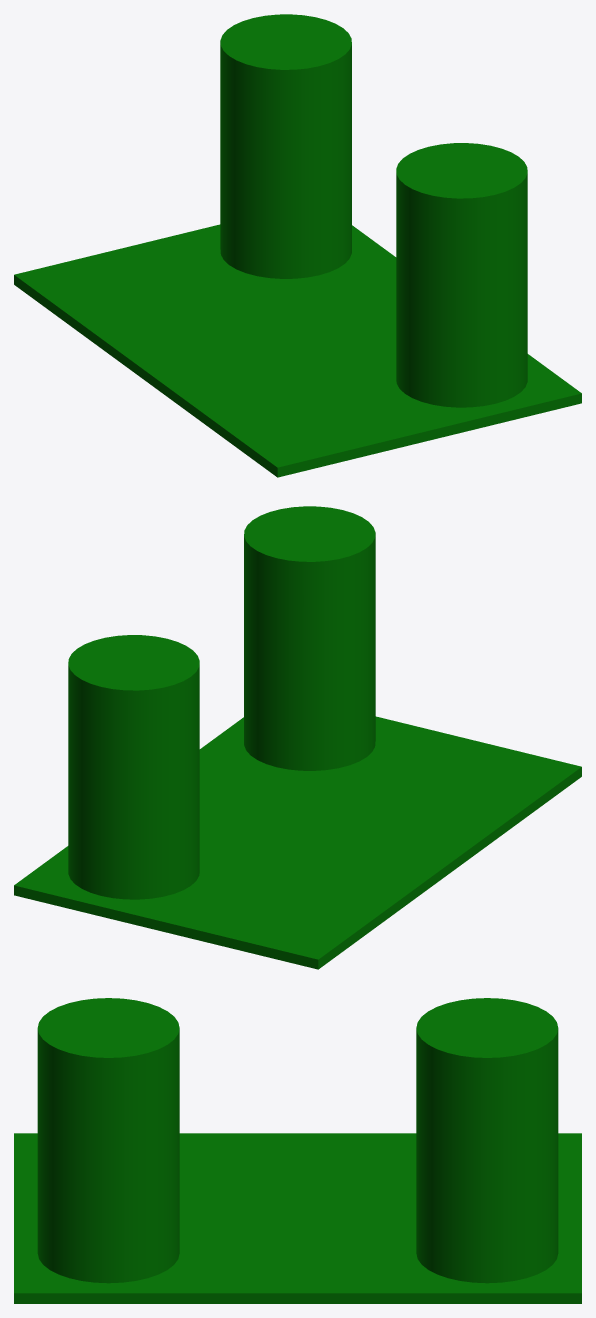
The model's file is Image-1711348097915-2280398595056_WASTE-COMPACTOR-AREA.fbx.
The picture shows the model from 3 angles, top to bottom: view 1: azimuth 30°, elevation 25°; view 2: azimuth 150°, elevation 25°; view 3: azimuth 270°, elevation 25°; orthographic projection. The views are drawn at different scales.
Visible parts, largest first — view 1: BOX 1 of EQUIPMENT /WASTE-COMPACTOR-AREA, CYLINDER 1 of SUBEQUIPMENT 3 of EQUIPMENT /WASTE-COMPACTOR-A, CYLINDER 1 of SUBEQUIPMENT 2 of EQUIPMENT /WASTE-COMPACTOR-A; view 2: BOX 1 of EQUIPMENT /WASTE-COMPACTOR-AREA, CYLINDER 1 of SUBEQUIPMENT 2 of EQUIPMENT /WASTE-COMPACTOR-A, CYLINDER 1 of SUBEQUIPMENT 3 of EQUIPMENT /WASTE-COMPACTOR-A; view 3: BOX 1 of EQUIPMENT /WASTE-COMPACTOR-AREA, CYLINDER 1 of SUBEQUIPMENT 3 of EQUIPMENT /WASTE-COMPACTOR-A, CYLINDER 1 of SUBEQUIPMENT 2 of EQUIPMENT /WASTE-COMPACTOR-A.
Part boxes in pixels (box(x1,y1,x2,y2)): BOX 1 of EQUIPMENT /WASTE-COMPACTOR-AREA: box(14, 224, 581, 477); CYLINDER 1 of SUBEQUIPMENT 3 of EQUIPMENT /WASTE-COMPACTOR-A: box(396, 143, 527, 407); CYLINDER 1 of SUBEQUIPMENT 2 of EQUIPMENT /WASTE-COMPACTOR-A: box(220, 14, 351, 278); BOX 1 of EQUIPMENT /WASTE-COMPACTOR-AREA: box(14, 716, 581, 969); CYLINDER 1 of SUBEQUIPMENT 2 of EQUIPMENT /WASTE-COMPACTOR-A: box(68, 635, 199, 899); CYLINDER 1 of SUBEQUIPMENT 3 of EQUIPMENT /WASTE-COMPACTOR-A: box(244, 506, 375, 770); BOX 1 of EQUIPMENT /WASTE-COMPACTOR-AREA: box(14, 1133, 581, 1303); CYLINDER 1 of SUBEQUIPMENT 3 of EQUIPMENT /WASTE-COMPACTOR-A: box(37, 998, 179, 1283); CYLINDER 1 of SUBEQUIPMENT 2 of EQUIPMENT /WASTE-COMPACTOR-A: box(416, 998, 558, 1283).
Size of the model in its own units: 1.6 by 2.4 by 1.1.
